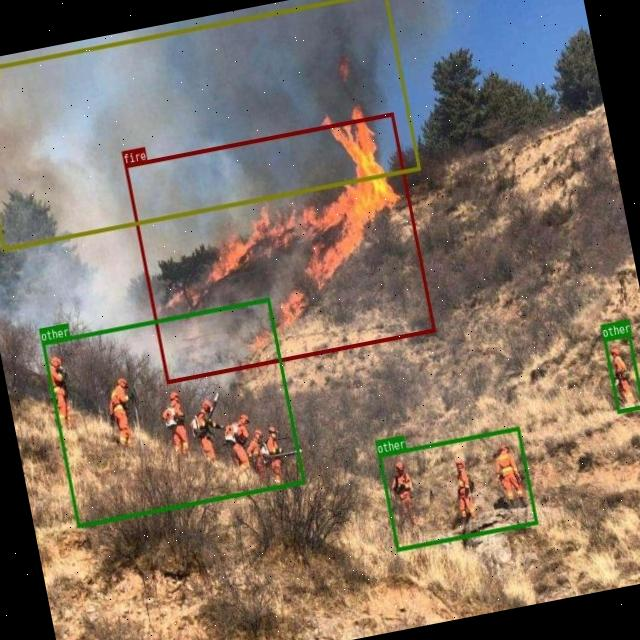fire: (124, 112, 436, 384)
smoke: (0, 0, 420, 250)
